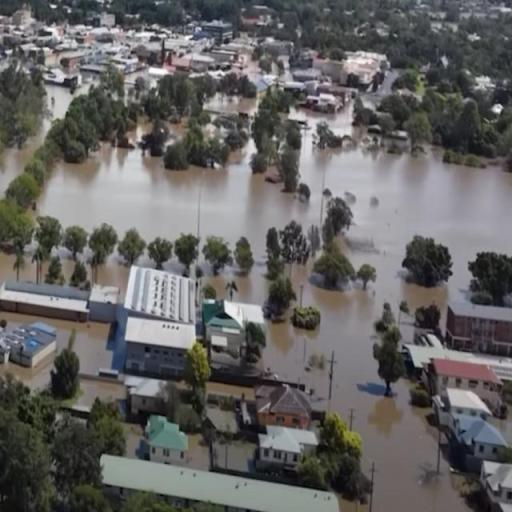flood: (39, 135, 512, 512), (0, 312, 112, 390), (0, 84, 75, 197), (290, 100, 353, 136), (66, 379, 125, 407), (98, 254, 130, 301), (204, 92, 260, 116), (42, 247, 74, 285), (0, 251, 15, 285), (19, 261, 35, 283), (19, 269, 25, 281)
house: (120, 264, 200, 379), (1, 279, 94, 328), (445, 293, 512, 360), (422, 360, 509, 393), (256, 426, 310, 475), (5, 320, 57, 370), (203, 296, 247, 355), (454, 416, 510, 462), (260, 383, 310, 433), (143, 410, 189, 464), (438, 386, 493, 426), (480, 460, 512, 512), (340, 48, 378, 84), (207, 44, 253, 70), (163, 41, 195, 71), (203, 20, 233, 42), (113, 52, 139, 72), (64, 52, 84, 74)
